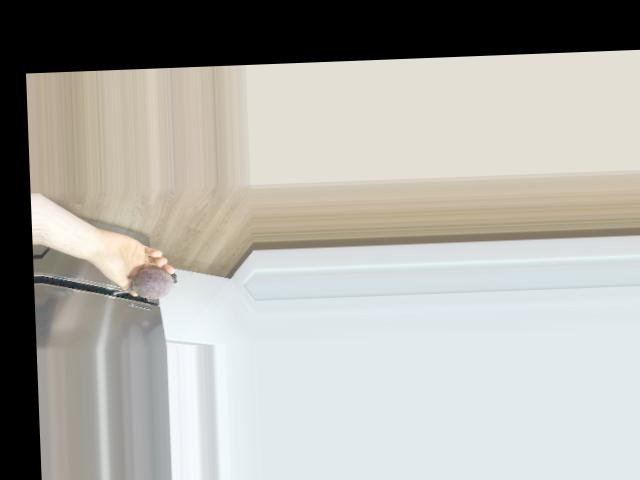beet: (113, 266, 178, 299)
